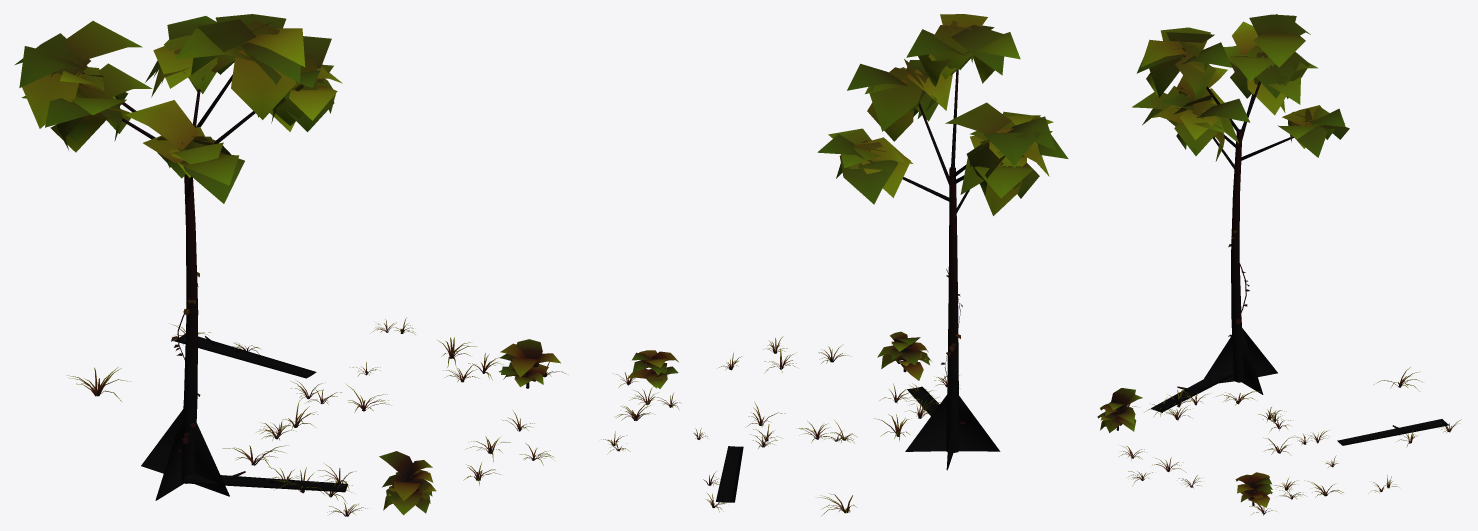
Rendered from patch_open.glb.
3 views of the same model, side by side, from view 1: azimuth 30°, elevation 25°; view 2: azimuth 150°, elevation 25°; view 3: azimuth 270°, elevation 25° (orthographic). The views are drawn at different scales.
Parts seen in each view (by area): view 1: patch_open; view 2: patch_open; view 3: patch_open.
Boxes of the visible parts, box(x1,y1,x2,y2) form: patch_open: box(15, 14, 565, 516); patch_open: box(603, 14, 1068, 516); patch_open: box(1097, 14, 1461, 515).
Bounding box in the file's own units: 14.51 × 12.31 × 11.7.
Materials: 1 (1 with a texture image).
